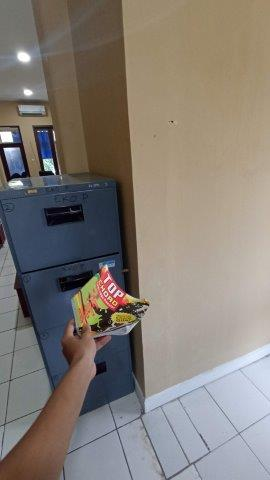kertas: (70, 264, 149, 347)
